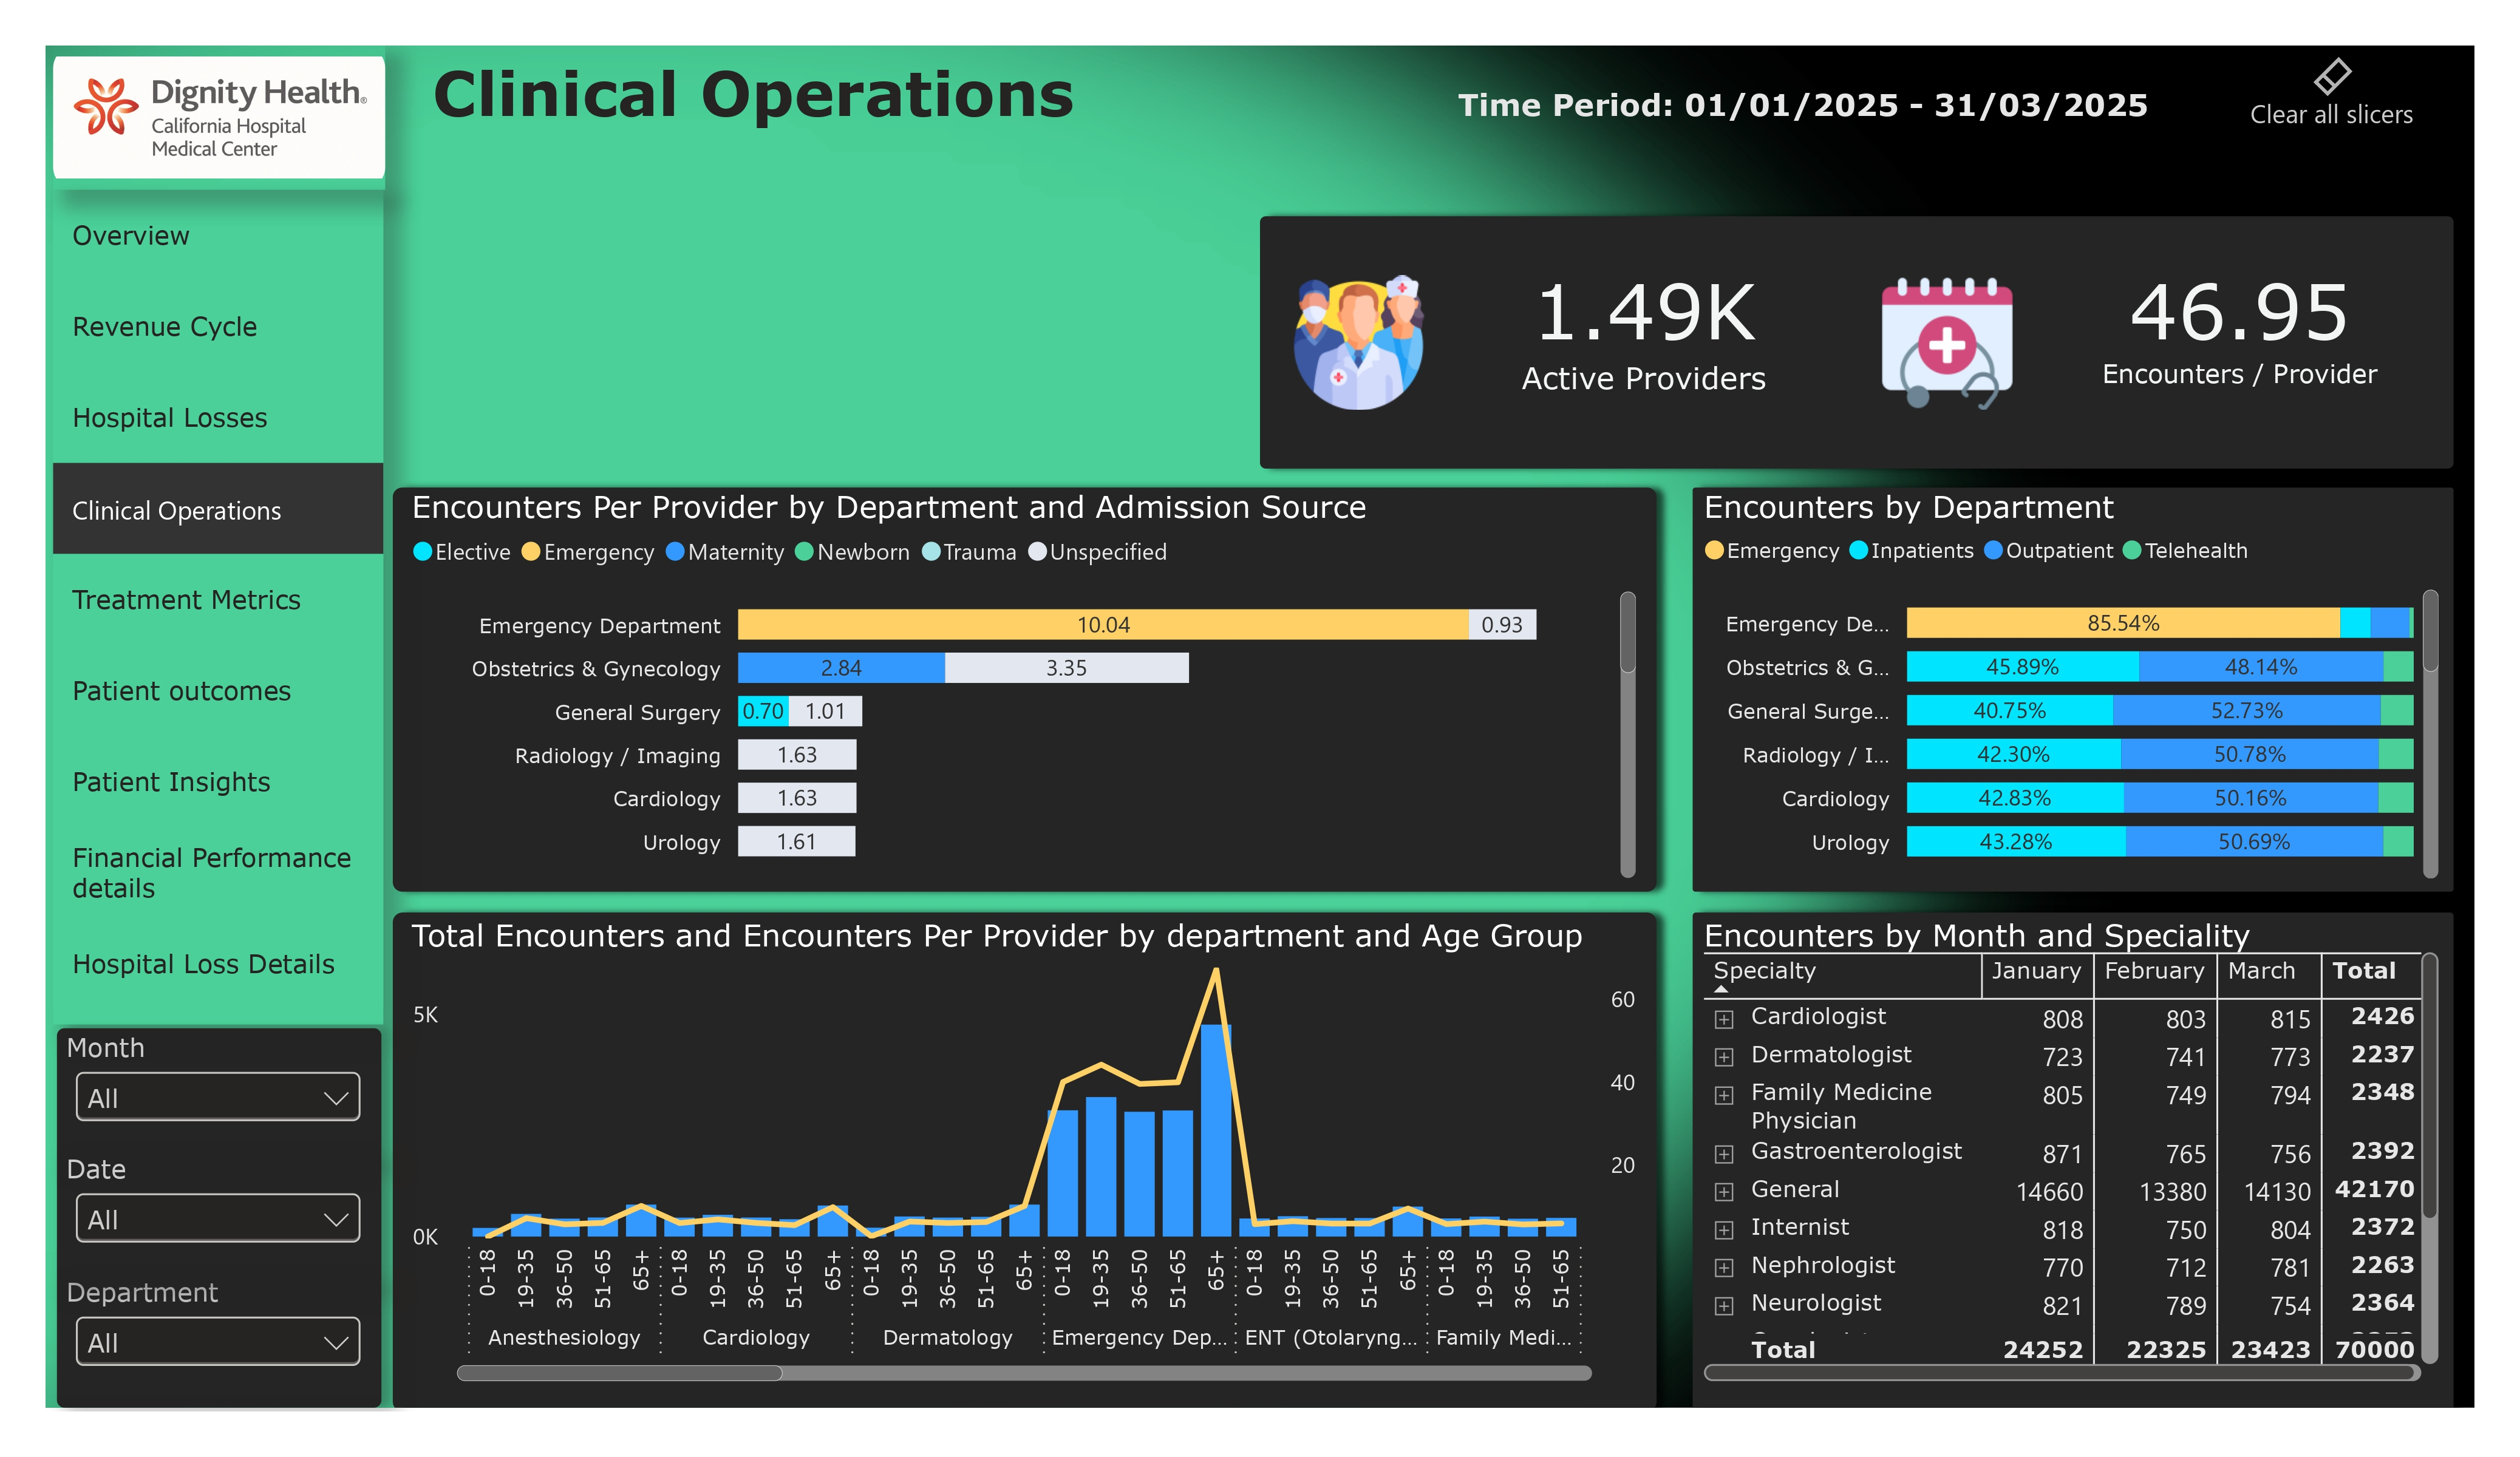

What the dashboard file says about the page in this screenshot:
{"tool":"powerbi","page":{"name":"Clinical Operations","canvas":[1280,720],"ordinal":3},"visuals":[{"type":"pageNavigator","box":[3.8,76.2,174,440],"z":0},{"type":"cardVisual","fields":{"Data":["_Measures.Encounters Per Provider"]},"box":[1051,88.1,211.2,135],"z":1000},{"type":"slicer","title":"Department","fields":{"Values":["Encounters.department"]},"box":[6,649.1,170.1,61.5],"z":2000},{"type":"slicer","title":"Month","fields":{"Values":["Calendar.Month Name"]},"box":[6.3,520.3,170,64.1],"z":3000},{"type":"textbox","box":[198.8,0,931.2,53.8],"z":4000},{"type":"cardVisual","fields":{"Data":["_Measures.Active Providers"]},"box":[735,87.5,215,135],"z":5000},{"type":"slicer","title":"Date","fields":{"Values":["Encounters.admission_date"]},"box":[6.3,584.4,170,64.1],"z":6000},{"type":"actionButton","box":[1130,0,150,50],"z":7000},{"type":"image","box":[3.8,0,175,76.2],"z":8000},{"type":"lineStackedColumnComboChart","fields":{"Category":["Providers.department","Patients.Age Group"],"Y2":["_Measures.Encounters Per Provider"],"Y":["_Measures.Total Encounters"]},"box":[187.5,458.8,655,250],"z":9000},{"type":"barChart","fields":{"Category":["Encounters.department"],"Series":["Encounters.admission_source"],"Y":["_Measures.Encounters Per Provider"]},"box":[187.5,232.5,655,211.2],"z":10000},{"type":"hundredPercentStackedBarChart","title":"Encounters by Department","fields":{"Category":["Encounters.department"],"Y":["_Measures.Total Encounters"],"Series":["Encounters.encounter_type"]},"box":[868.8,232.5,397.5,211.2],"z":11000},{"type":"pivotTable","title":"Encounters by Month and Speciality","fields":{"Rows":["Providers.specialty","Providers.Full Name"],"Values":["_Measures.Total Encounters"],"Columns":["Calendar.Month Name"]},"box":[868.8,458.8,397.5,250],"z":12000}]}

Visuals, with their boxes on the page's 1280x720 design canvas (x1, y1, x2, y2). These are canvas units, not pixel positions in the 2520x1457 screenshot, which may show the page scaled, cropped or inside an application window:
pageNavigator: x1=4, y1=76, x2=178, y2=516
cardVisual - _Measures.Encounters Per Provider: x1=1051, y1=88, x2=1262, y2=223
"Department" slicer: x1=6, y1=649, x2=176, y2=711
"Month" slicer: x1=6, y1=520, x2=176, y2=584
textbox: x1=199, y1=0, x2=1130, y2=54
cardVisual - _Measures.Active Providers: x1=735, y1=88, x2=950, y2=222
"Date" slicer: x1=6, y1=584, x2=176, y2=648
actionButton: x1=1130, y1=0, x2=1280, y2=50
image: x1=4, y1=0, x2=179, y2=76
lineStackedColumnComboChart - Providers.department x Patients.Age Group: x1=188, y1=459, x2=842, y2=709
barChart - Encounters.department x Encounters.admission_source: x1=188, y1=232, x2=842, y2=444
"Encounters by Department" hundredPercentStackedBarChart: x1=869, y1=232, x2=1266, y2=444
"Encounters by Month and Speciality" pivotTable: x1=869, y1=459, x2=1266, y2=709
